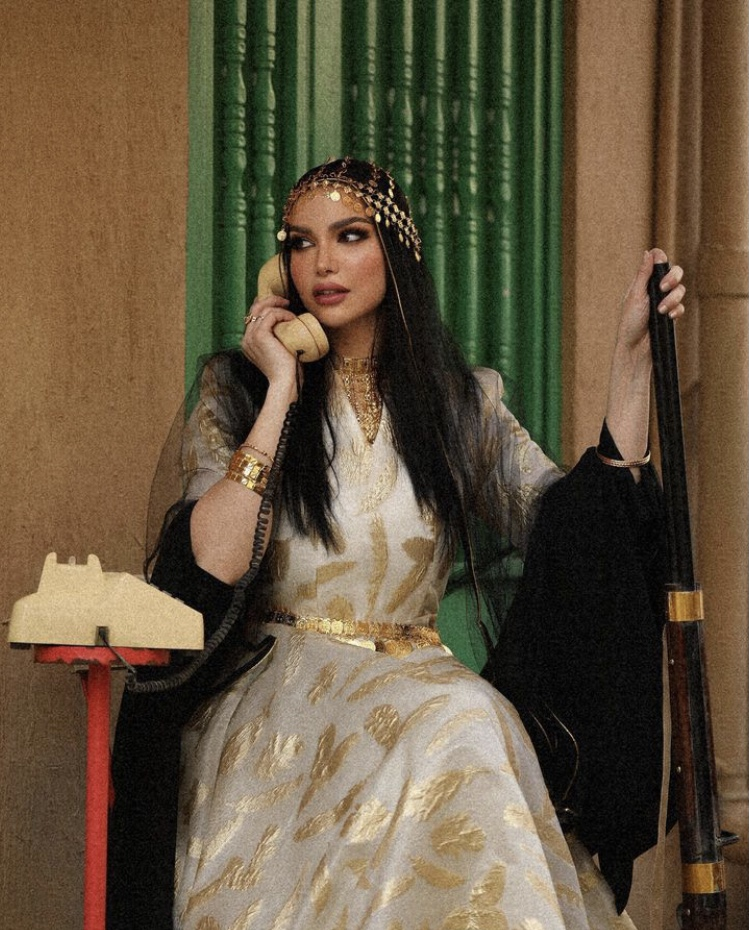Saudi_Founding_Day: (110, 149, 741, 930)
